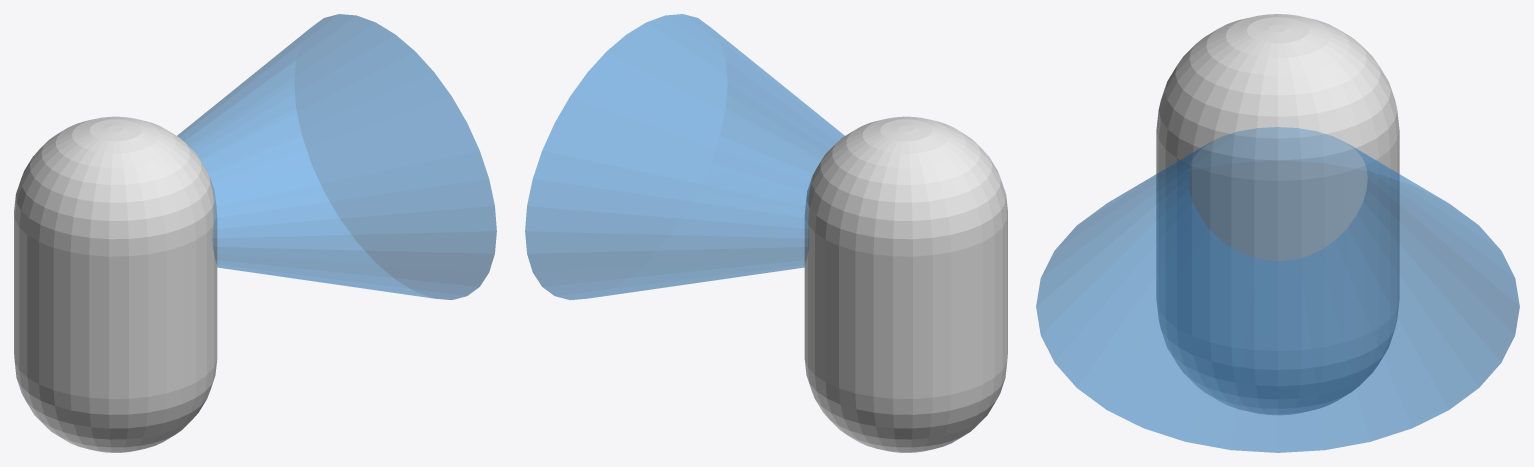
The model's file is human_representation.gltf.
The picture shows the model from 3 angles, left to right: view 1: azimuth 30°, elevation 25°; view 2: azimuth 150°, elevation 25°; view 3: azimuth 270°, elevation 25°; orthographic projection. The views are drawn at different scales.
Visible parts, largest first — view 1: Cone, Cylinder; view 2: Cone, Cylinder; view 3: Cone, Cylinder.
Boxes of the visible parts, x1,y1,x2,y2 form: Cone: (177, 14, 496, 299); Cylinder: (14, 116, 217, 452); Cone: (525, 14, 844, 299); Cylinder: (804, 116, 1007, 452); Cone: (1036, 127, 1519, 452); Cylinder: (1156, 14, 1399, 414).
Bounding box in the file's own units: 4.17 × 3.66 × 3.98.
